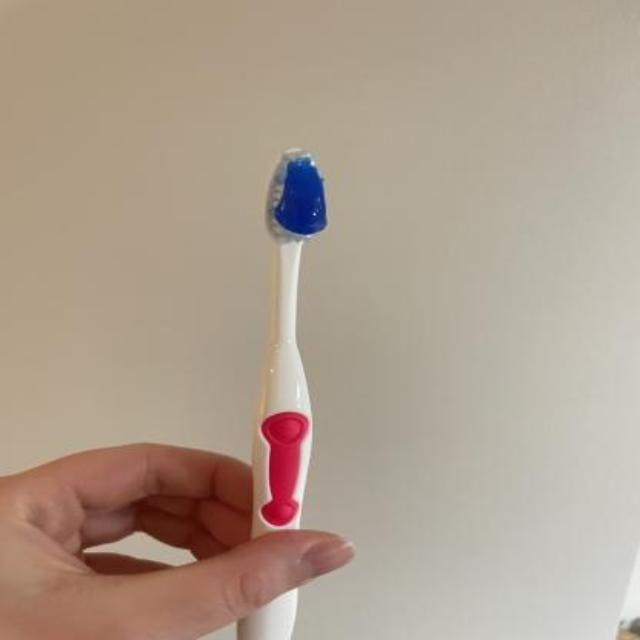toothbrush: (246, 142, 330, 640)
